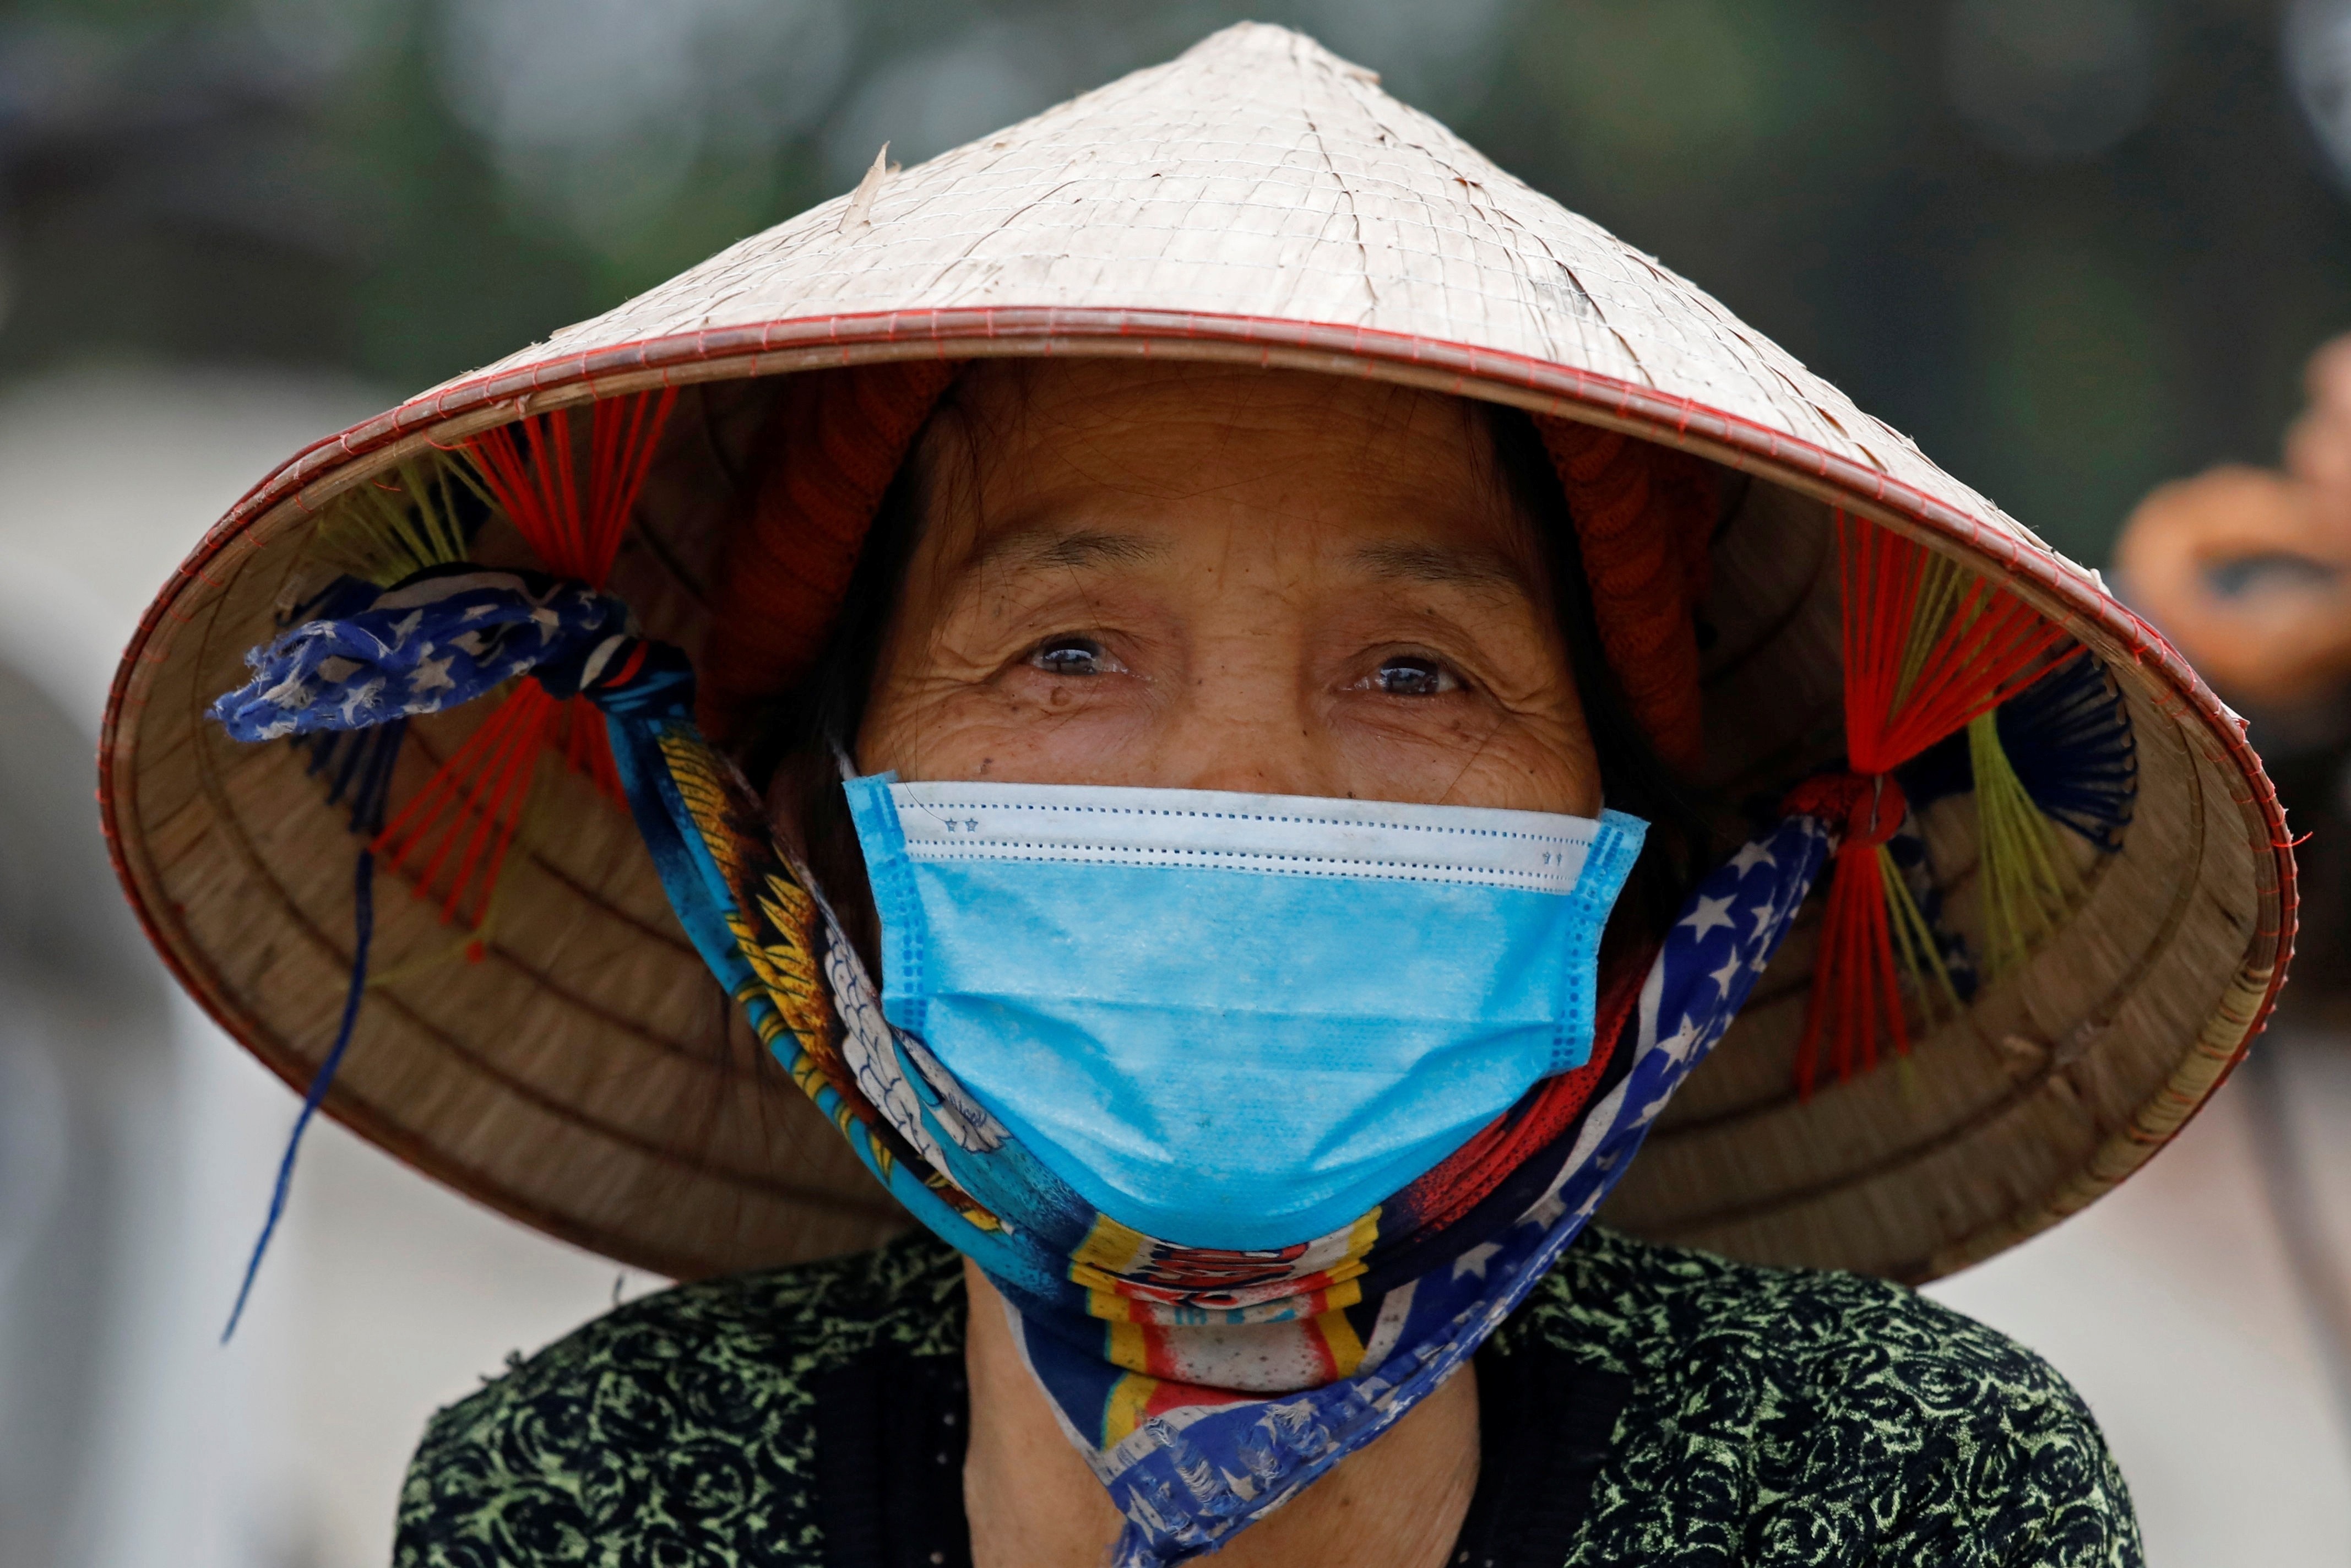face_with_mask: (716, 366, 1669, 1302)
